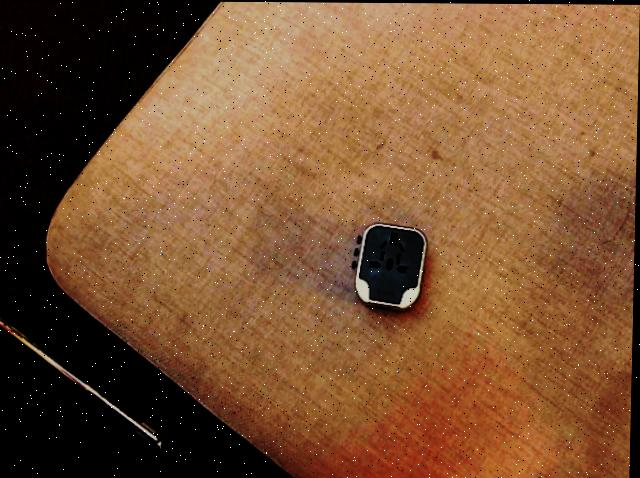adapter: (351, 222, 428, 311)
